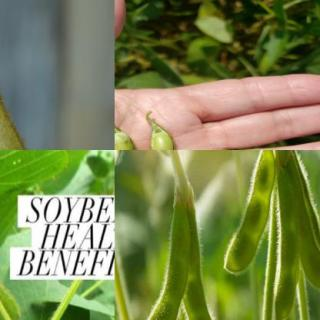soya: (223, 150, 276, 276), (144, 204, 191, 319), (183, 208, 222, 319), (0, 0, 29, 149), (273, 169, 299, 319), (296, 172, 319, 290), (0, 230, 23, 319), (142, 122, 178, 150), (115, 116, 139, 150)
